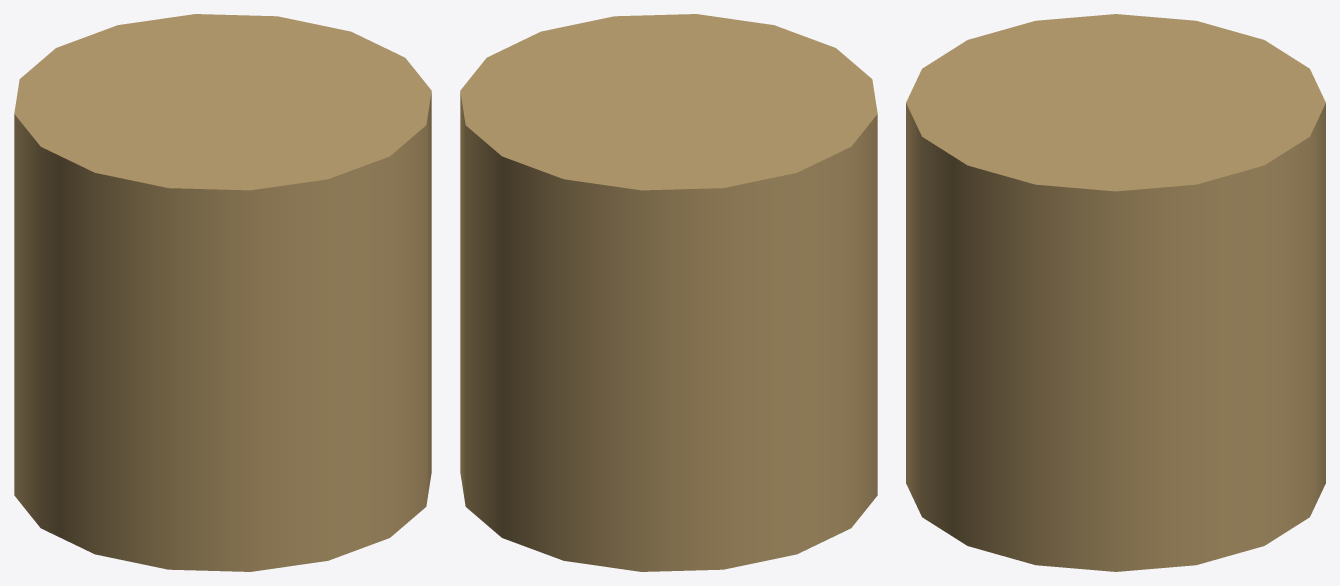
File: lamp-16-4.lod.glb
3 views of the same model, side by side, from view 1: azimuth 30°, elevation 25°; view 2: azimuth 150°, elevation 25°; view 3: azimuth 270°, elevation 25° (orthographic).
Visible parts, largest first — view 1: part; view 2: part; view 3: part.
Part boxes in pixels (x1=…): part: x1=14, y1=14, x2=431, y2=571; part: x1=460, y1=14, x2=877, y2=571; part: x1=906, y1=14, x2=1325, y2=571.
Size of the model in its own units: 1 by 1 by 1.
